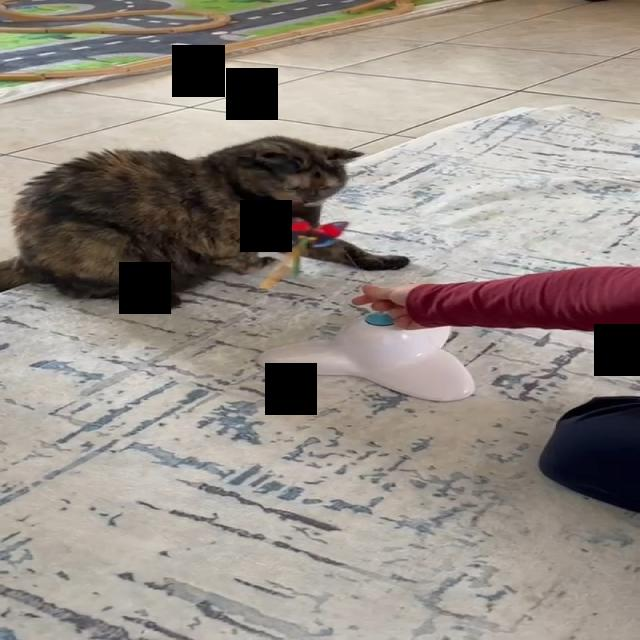authorized: (0, 134, 408, 310)
